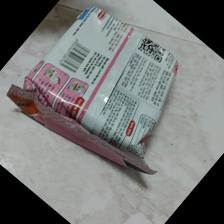Haohao: (8, 4, 179, 177)
